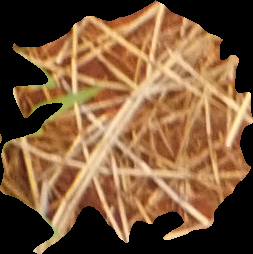soil: (1, 1, 253, 253)
